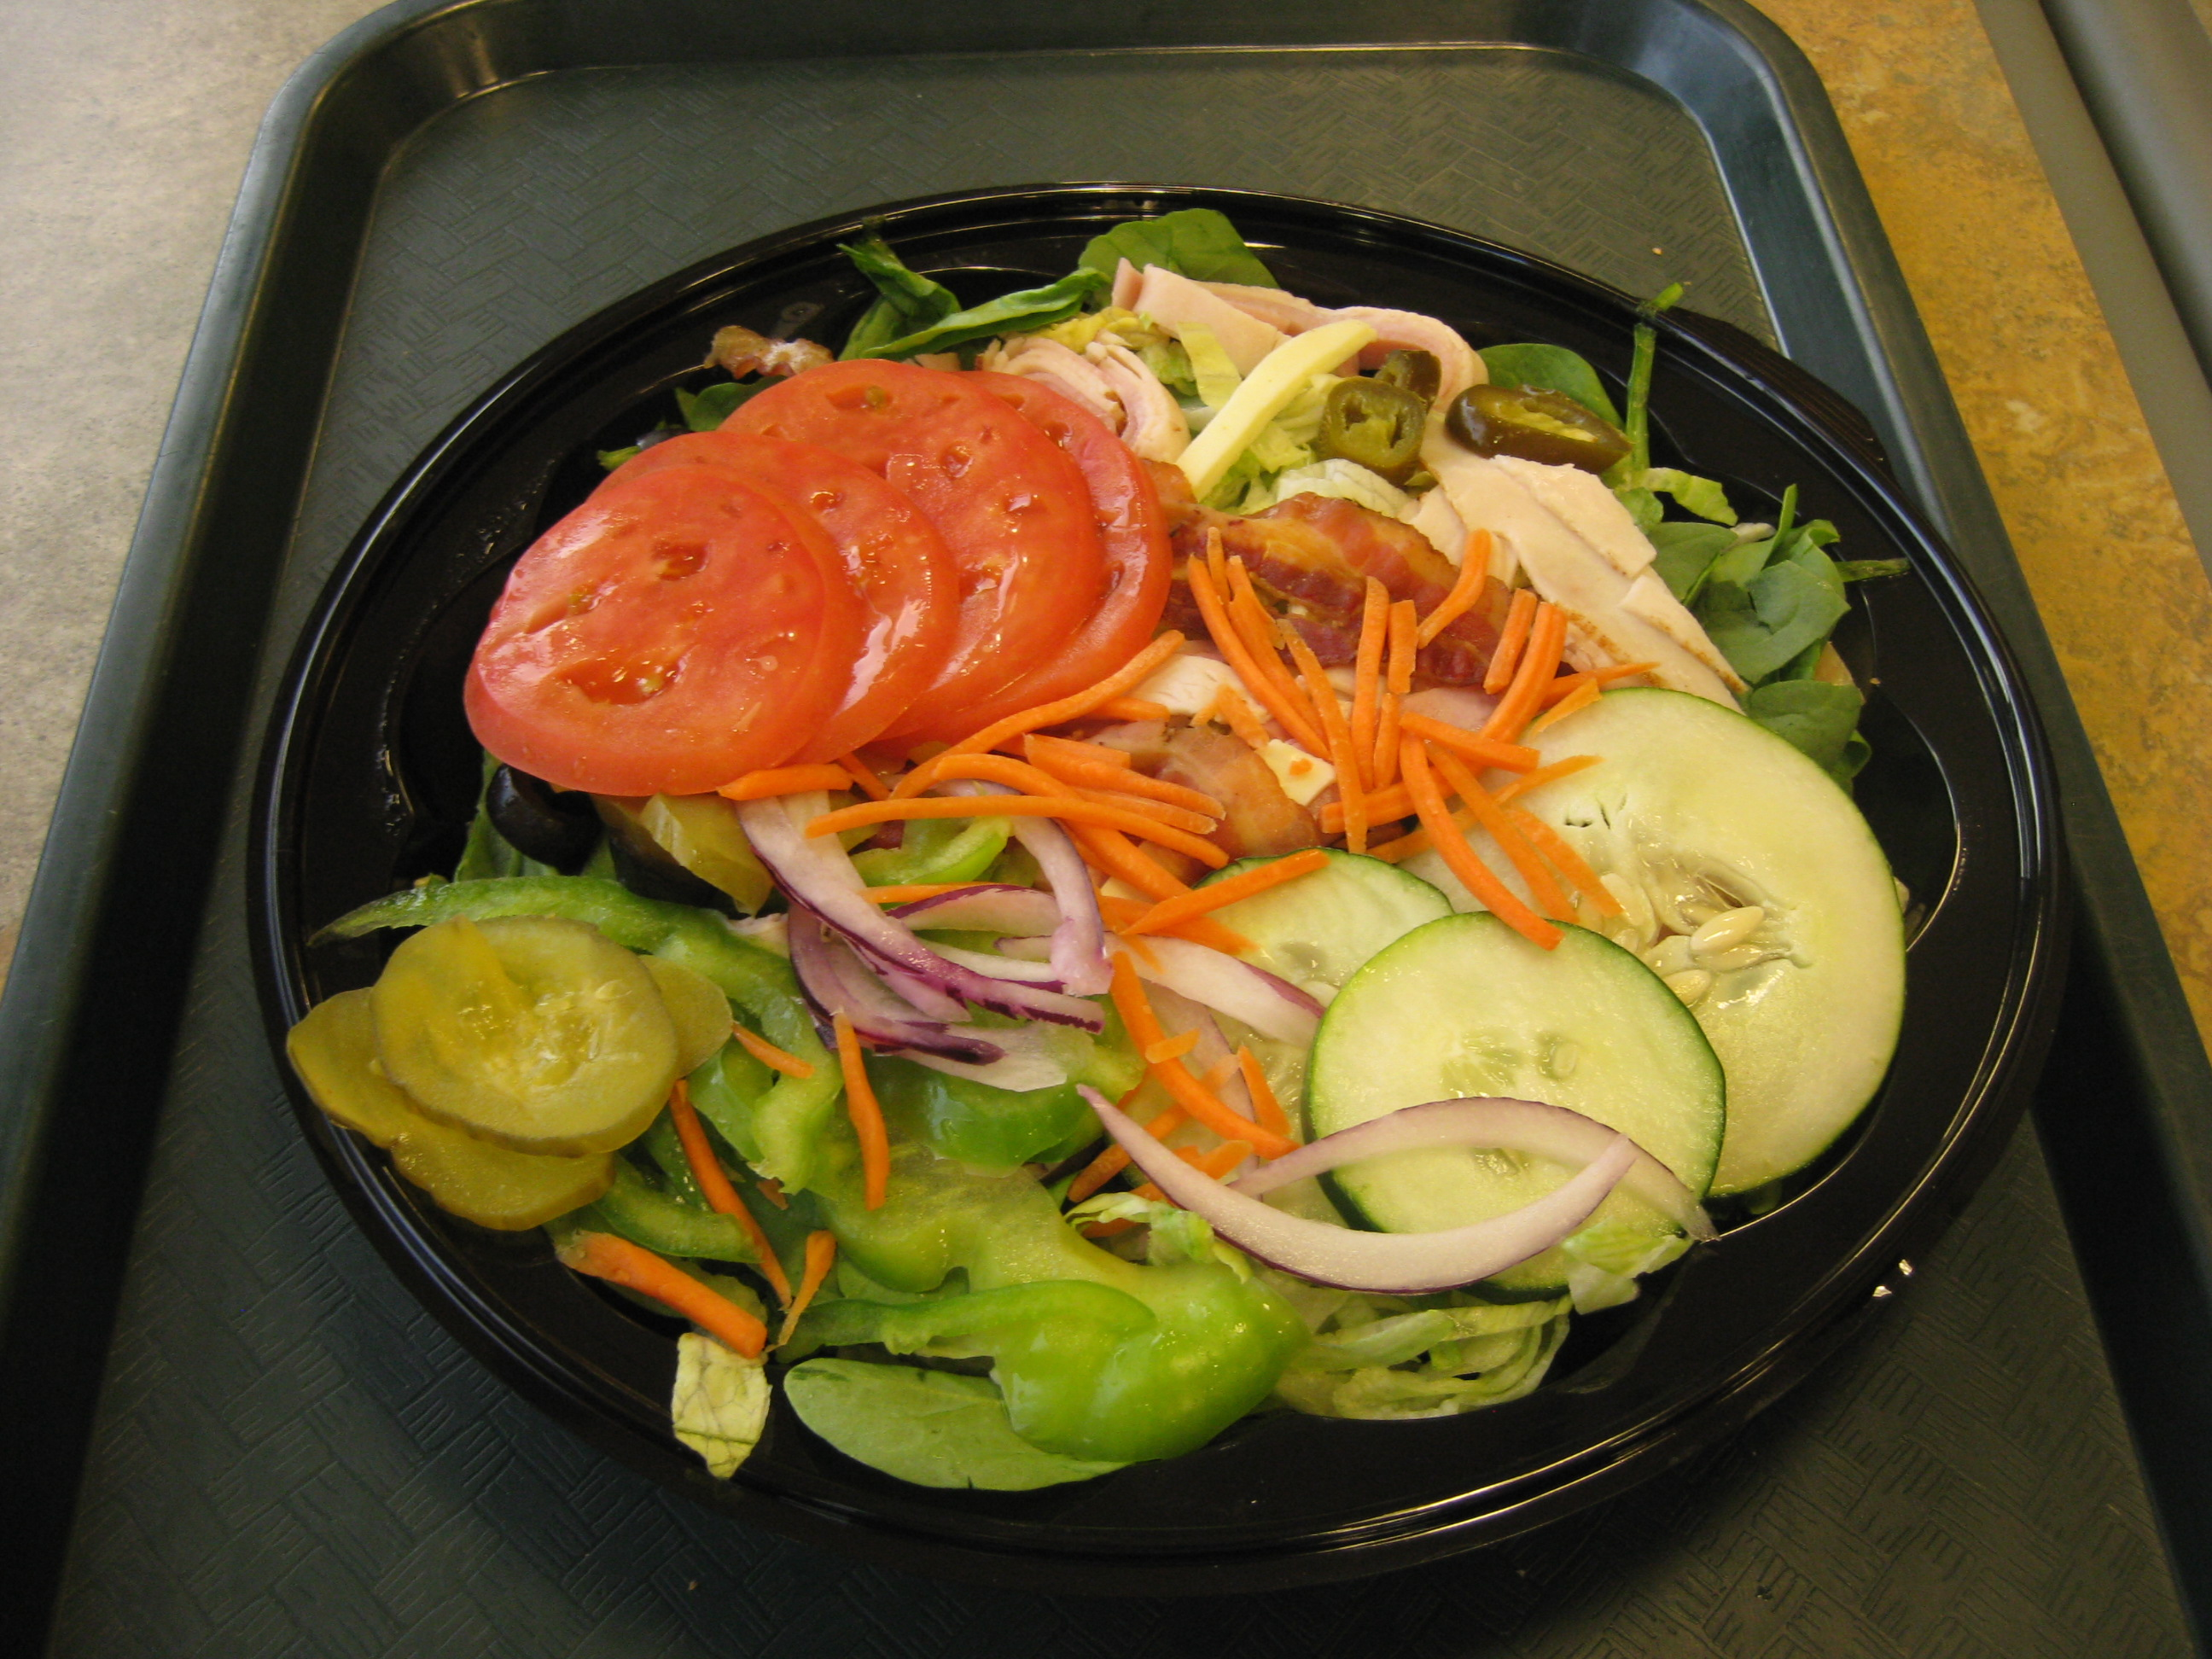salad: (353, 242, 1943, 1490)
